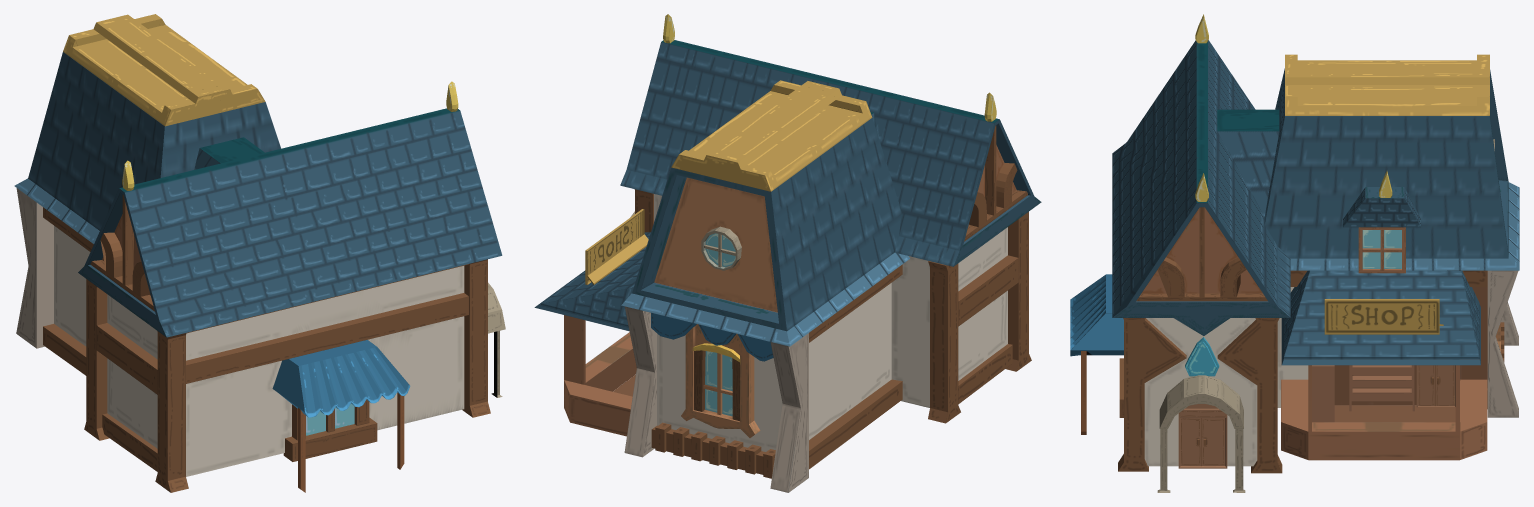
Rendered from shop11w1.fbx.
3 renders of one model, left to right at view 1: azimuth 30°, elevation 25°; view 2: azimuth 150°, elevation 25°; view 3: azimuth 270°, elevation 25°, orthographic.
Parts seen in each view (by area): view 1: atap.001, base, tiang kayu, atap2, gold atas, stand biru, tiang batu, jendela gede, atap kecil, tiang atap, ornamen atap, tiang batu.001 (+1 smaller); view 2: atap2, atap.001, base, tiang kayu, gold atas, tiang batu, jendela bawah, pilar, atap kecil, atap, banner, biru kain (+4 smaller); view 3: atap.001, atap2, atap, base, gold atas, pilar, tiang kayu, pintu, banner, stand biru, lemari, tiang batu.001 (+8 smaller).
Part boxes in pixels (left/top/right/bottom): atap.001: left=78, top=108, right=502, bottom=337; base: left=54, top=226, right=464, bottom=476; tiang kayu: left=43, top=207, right=490, bottom=492; atap2: left=28, top=52, right=280, bottom=230; gold atas: left=63, top=14, right=265, bottom=126; stand biru: left=272, top=340, right=410, bottom=492; tiang batu: left=16, top=188, right=53, bottom=348; jendela gede: left=283, top=399, right=377, bottom=461; atap kecil: left=14, top=178, right=99, bottom=243; tiang atap: left=90, top=194, right=154, bottom=311; ornamen atap: left=100, top=232, right=149, bottom=296; tiang batu.001: left=488, top=282, right=505, bottom=397; atap2: left=632, top=118, right=901, bottom=331; atap.001: left=620, top=40, right=1041, bottom=266; base: left=613, top=194, right=1007, bottom=451; tiang kayu: left=634, top=189, right=1031, bottom=478; gold atas: left=671, top=80, right=872, bottom=191; tiang batu: left=624, top=306, right=808, bottom=492; jendela bawah: left=681, top=324, right=760, bottom=437; pilar: left=564, top=315, right=636, bottom=436; atap kecil: left=621, top=252, right=909, bottom=346; atap: left=534, top=232, right=650, bottom=331; banner: left=585, top=209, right=648, bottom=284; biru kain: left=651, top=313, right=773, bottom=361; atap.001: left=1112, top=40, right=1290, bottom=335; atap2: left=1264, top=68, right=1508, bottom=258; atap: left=1281, top=270, right=1480, bottom=365; base: left=1144, top=287, right=1487, bottom=466; gold atas: left=1285, top=54, right=1489, bottom=115; pilar: left=1281, top=365, right=1487, bottom=460; tiang kayu: left=1118, top=270, right=1504, bottom=473; pintu: left=1178, top=365, right=1455, bottom=468; banner: left=1324, top=299, right=1443, bottom=334; stand biru: left=1070, top=274, right=1123, bottom=434; lemari: left=1312, top=365, right=1414, bottom=422; tiang batu.001: left=1157, top=375, right=1245, bottom=492.
Bounding box in the file's own units: 417 × 355 × 446.
